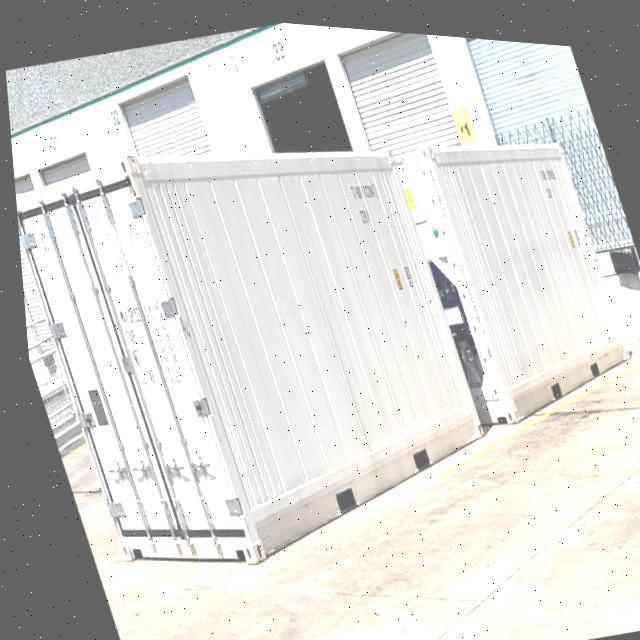container_number_h: (94, 215, 153, 279)
